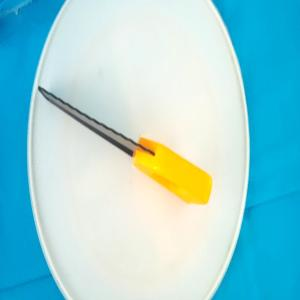serrote: (37, 84, 213, 206)
